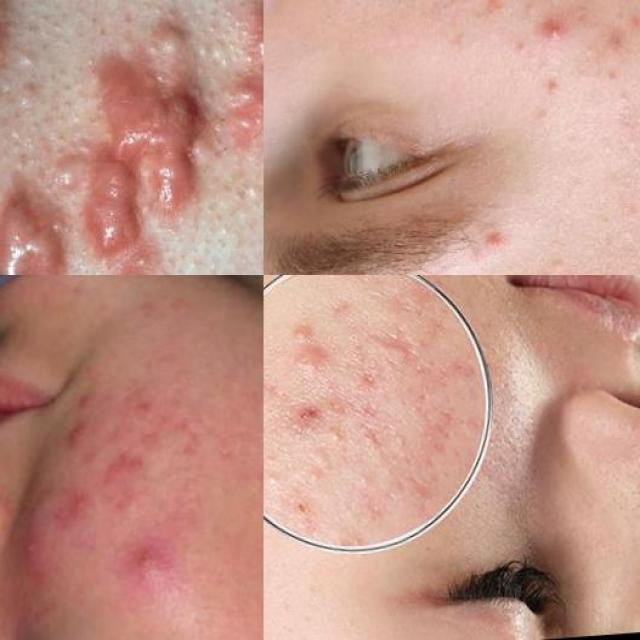Pimples: (69, 12, 210, 266), (0, 180, 74, 275), (46, 473, 111, 529), (64, 365, 115, 420), (13, 527, 62, 577), (132, 522, 174, 578), (368, 310, 414, 356), (57, 418, 102, 462), (0, 0, 21, 91), (537, 9, 574, 52), (281, 312, 320, 349), (354, 404, 382, 451), (284, 399, 320, 427), (108, 260, 158, 276)
